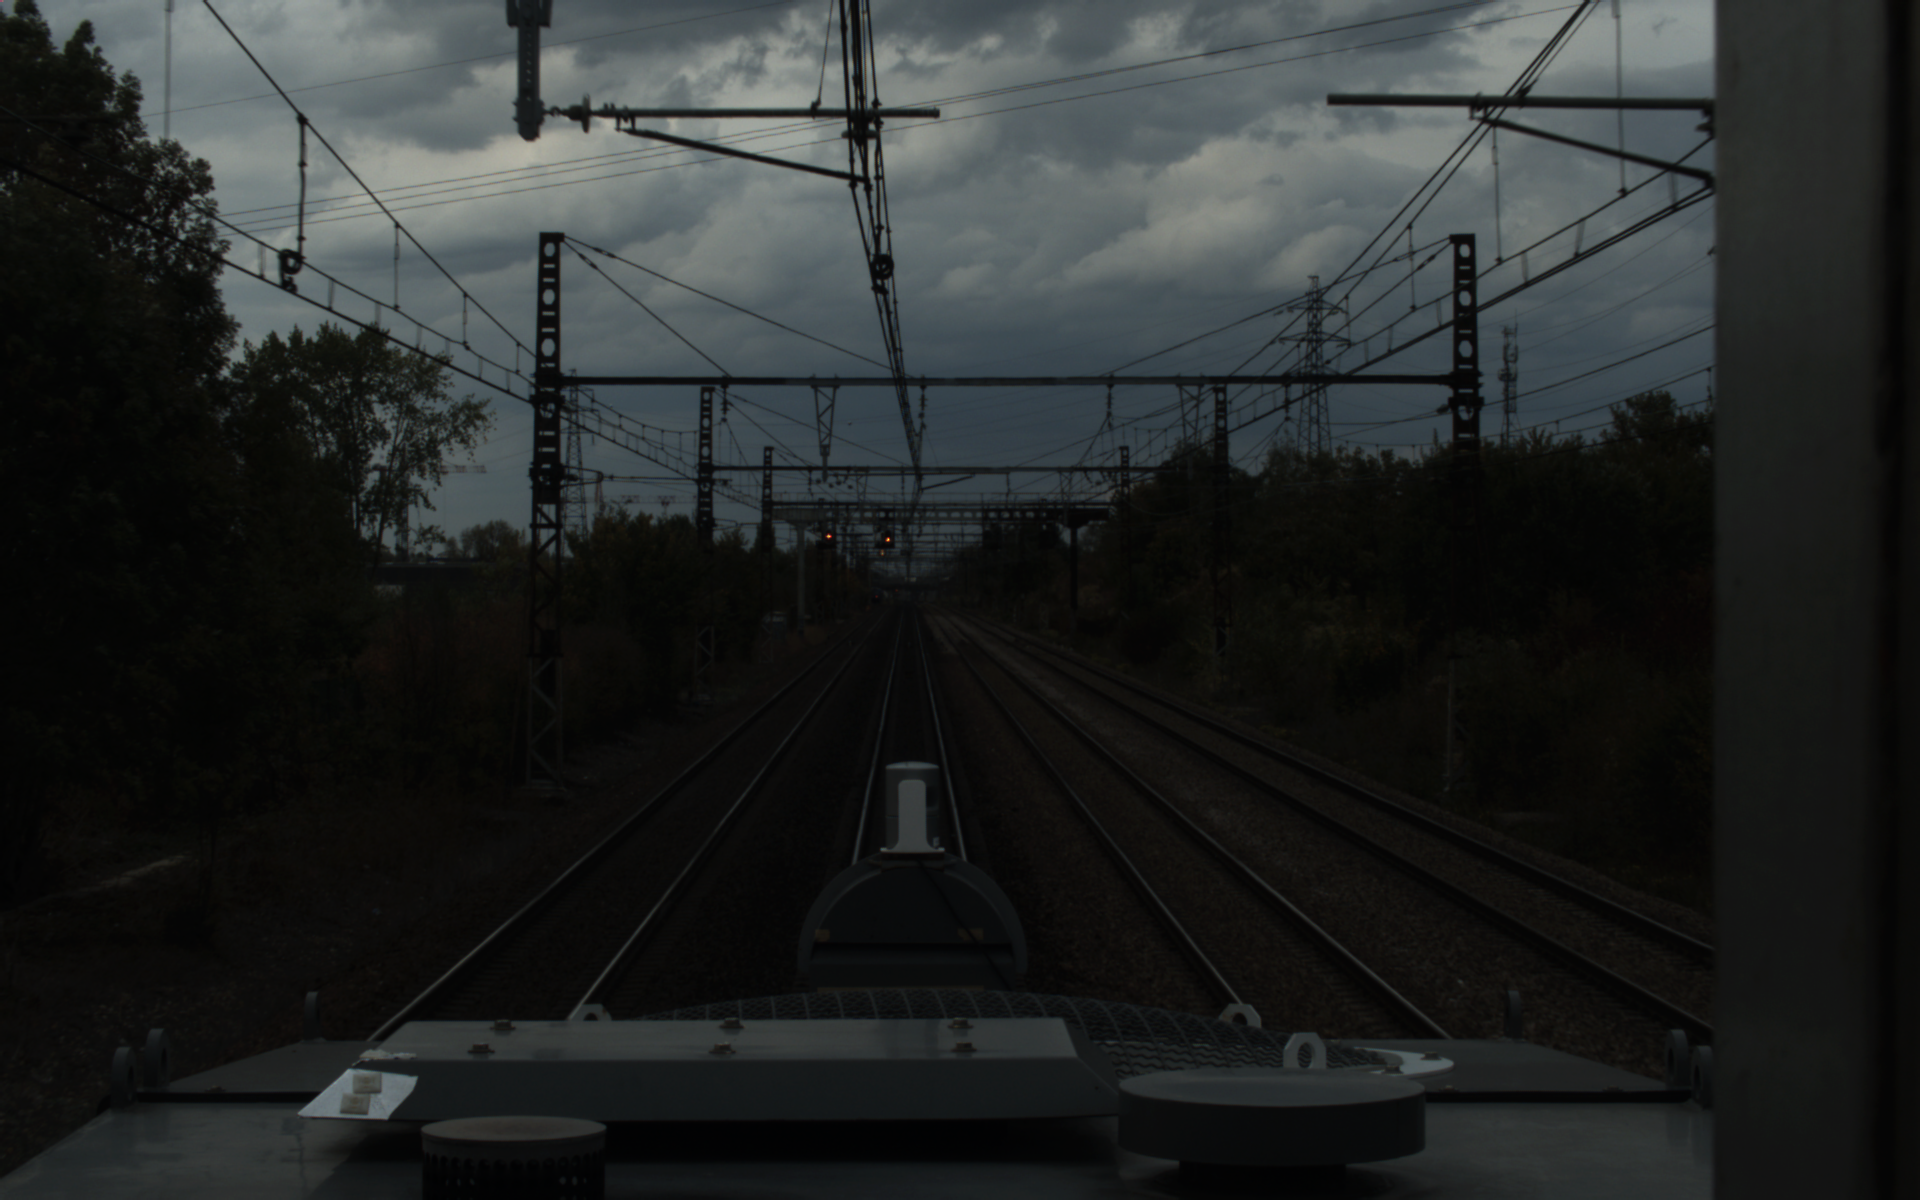Blinking: (881, 525, 894, 546)
Fixed: (821, 525, 835, 546)
